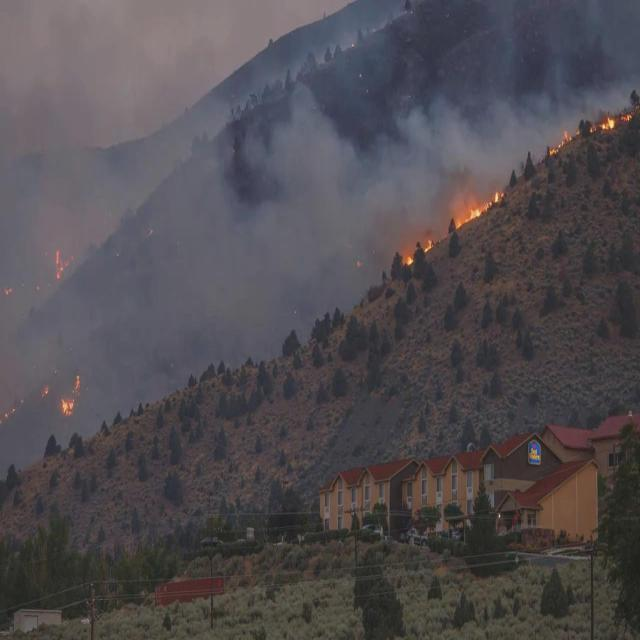Smoke: (19, 18, 304, 339), (309, 125, 434, 226)
